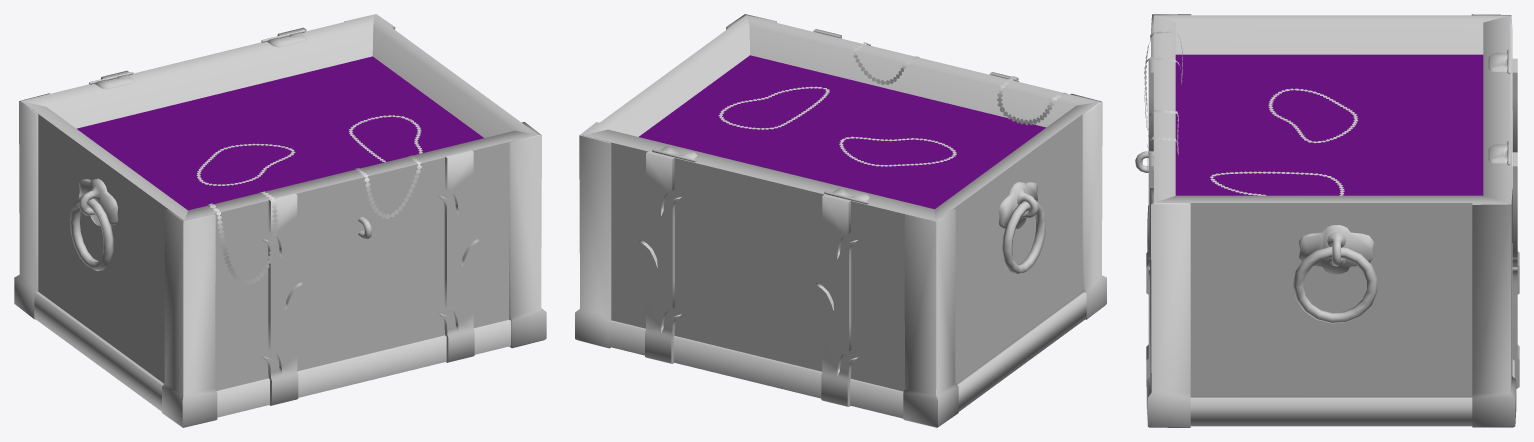
File: PiratesChest_A2_Gold.fbx
3 renders of one model, left to right at view 1: azimuth 30°, elevation 25°; view 2: azimuth 150°, elevation 25°; view 3: azimuth 270°, elevation 25°, orthographic. The views are drawn at different scales.
Visible parts, largest first — view 1: PiratesChest_A2_Gold; view 2: PiratesChest_A2_Gold; view 3: PiratesChest_A2_Gold.
Part boxes in pixels (bbox=[...]): PiratesChest_A2_Gold: bbox=[14, 14, 546, 427]; PiratesChest_A2_Gold: bbox=[575, 14, 1106, 427]; PiratesChest_A2_Gold: bbox=[1135, 14, 1519, 427].
Bounding box in the file's own units: 49.18 × 38.02 × 24.65.
